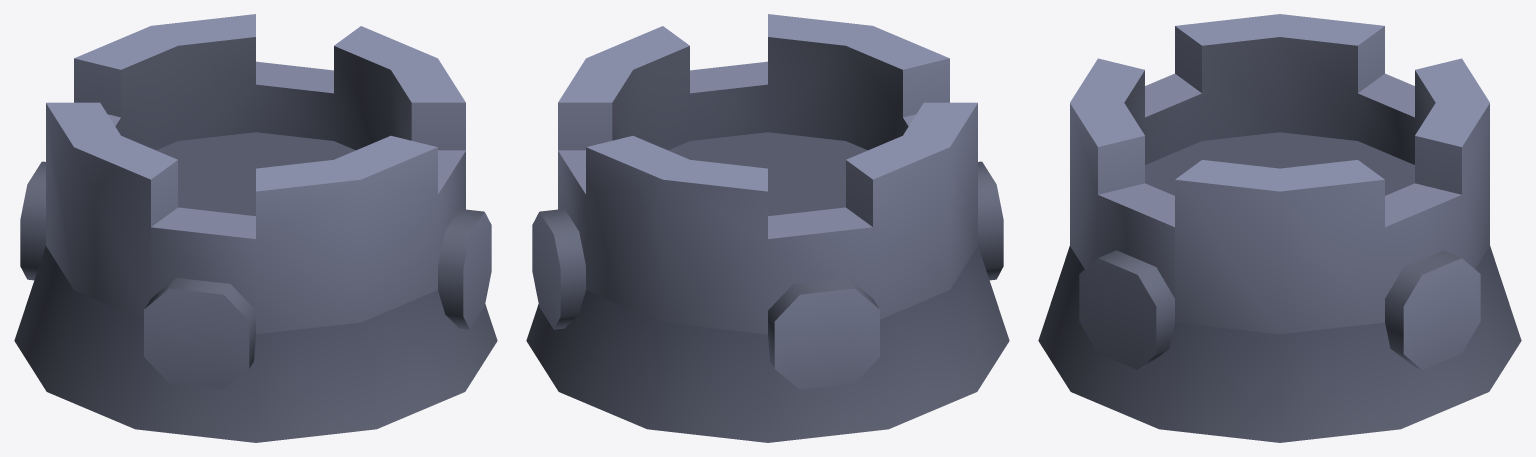
File: tower-round-top-a.glb
The picture shows the model from 3 angles, left to right: view 1: azimuth 30°, elevation 25°; view 2: azimuth 150°, elevation 25°; view 3: azimuth 270°, elevation 25°; orthographic projection.
Visible parts, largest first — view 1: tower-round-top-a; view 2: tower-round-top-a; view 3: tower-round-top-a.
Part boxes in pixels (x1=…): tower-round-top-a: x1=14, y1=14, x2=497, y2=442; tower-round-top-a: x1=526, y1=14, x2=1009, y2=442; tower-round-top-a: x1=1038, y1=14, x2=1521, y2=442.
Size of the model in its own units: 0.92 by 0.5001 by 0.92.
